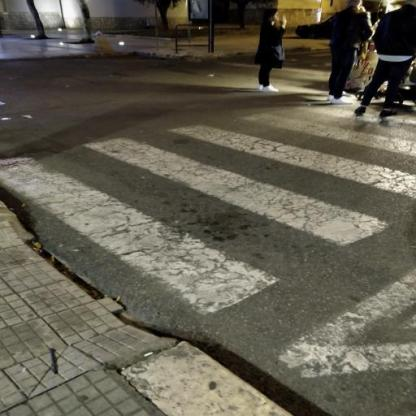crosswalk: (75, 119, 416, 250)
